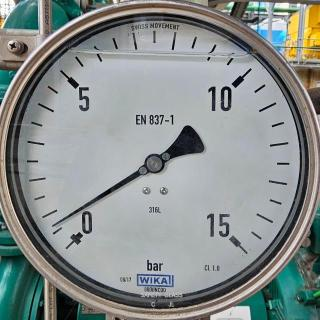gauge: (0, 0, 320, 320), (59, 215, 97, 255), (213, 221, 249, 255), (12, 315, 232, 319), (143, 152, 165, 174), (48, 216, 64, 230)
